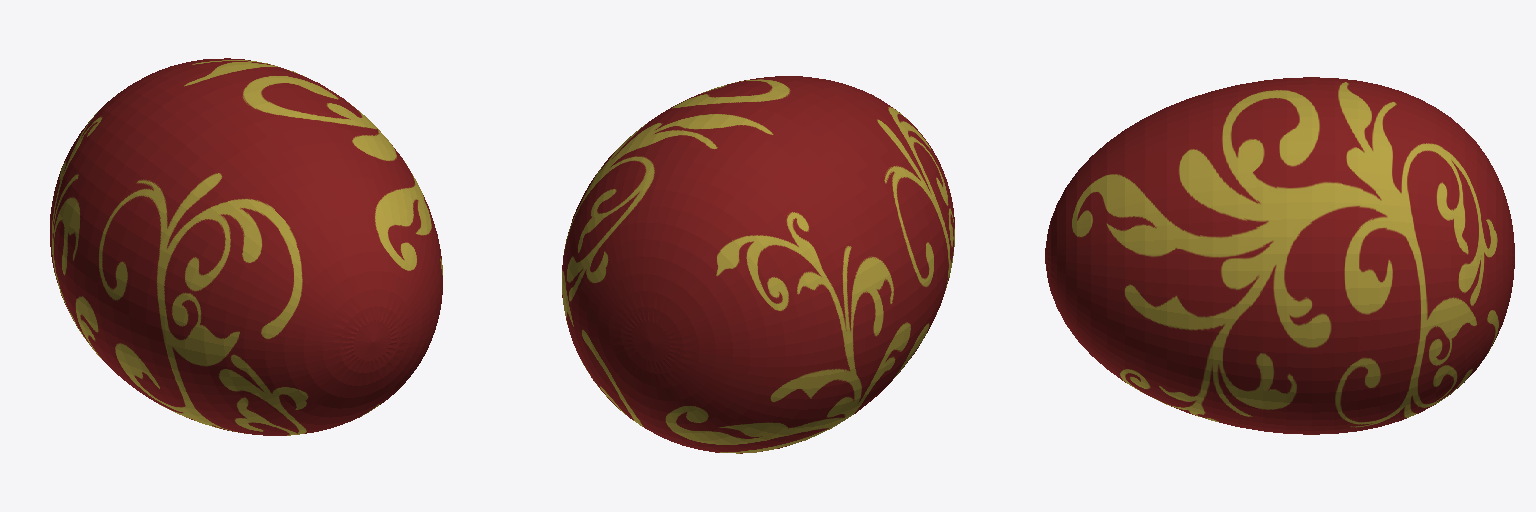
The picture shows the model from 3 angles: view 1: azimuth 30°, elevation 25°; view 2: azimuth 150°, elevation 25°; view 3: azimuth 270°, elevation 25°; orthographic projection.
Parts seen in each view (by area): view 1: 12173_Egg; view 2: 12173_Egg; view 3: 12173_Egg.
Boxes of the visible parts, <box> form: 12173_Egg: <box>50,58,442,435</box>; 12173_Egg: <box>562,76,954,453</box>; 12173_Egg: <box>1045,77,1514,434</box>.
Bounding box in the file's own units: 46.08 × 46.08 × 60.74.
Materials: 1 (1 with a texture image).